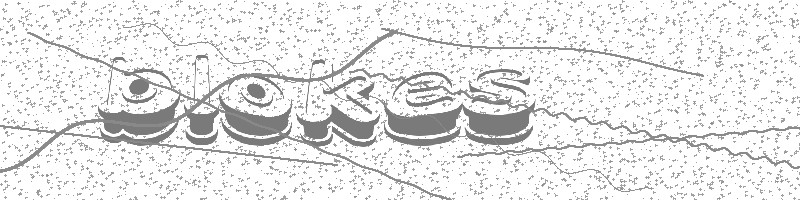b: (95, 53, 180, 145)
e: (381, 70, 462, 148)
k: (293, 54, 382, 152)
l: (183, 53, 221, 145)
o: (218, 71, 296, 148)
s: (460, 65, 538, 145)
